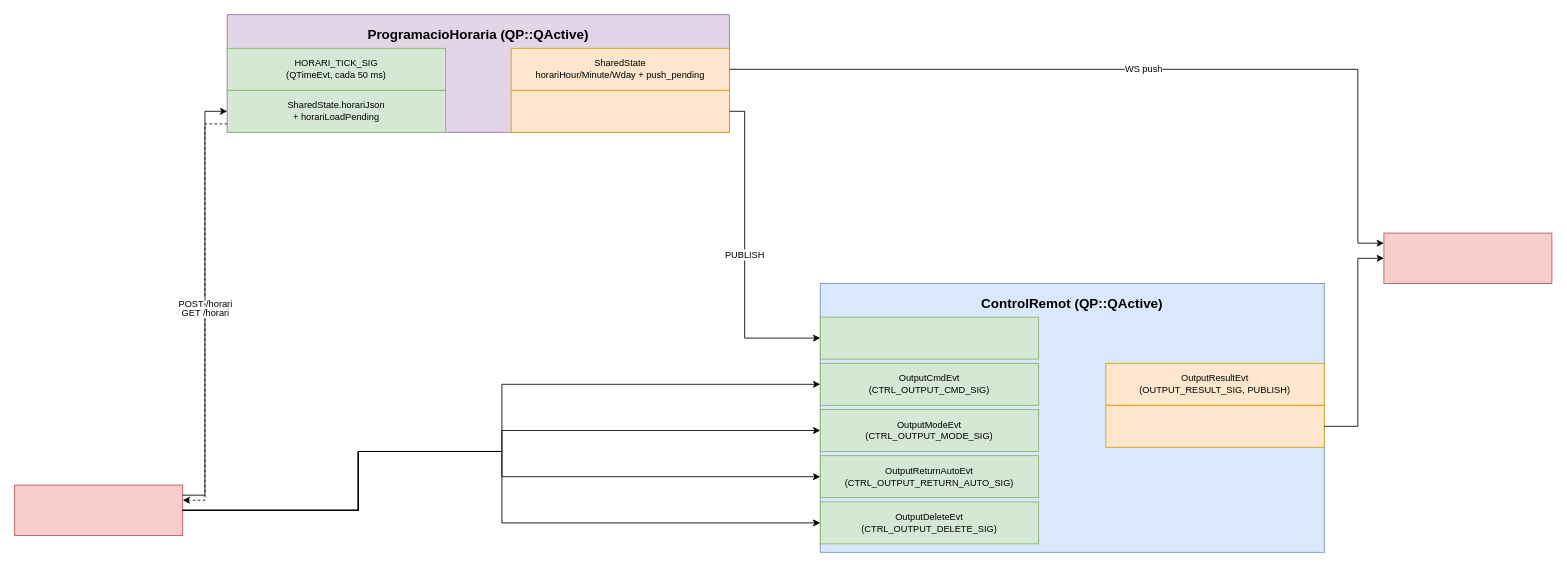
Image size: 1567x567. Some labels were removed from this diagram. Each missing label, with the centre of its shape:
"Client Web (WebSocket /ws)" goes at (1467,258).
"HttpServer (thread Mongoose)" goes at (98,510).
"IoStateHttpEvt (IO_STATE_HTTP_SIG)" goes at (929,337).
"IoStateHttpEvt (IO_STATE_HTTP_SIG, PUBLISH)" goes at (620,110).
"SharedState outputsFull + push_pending" goes at (1214,425).
